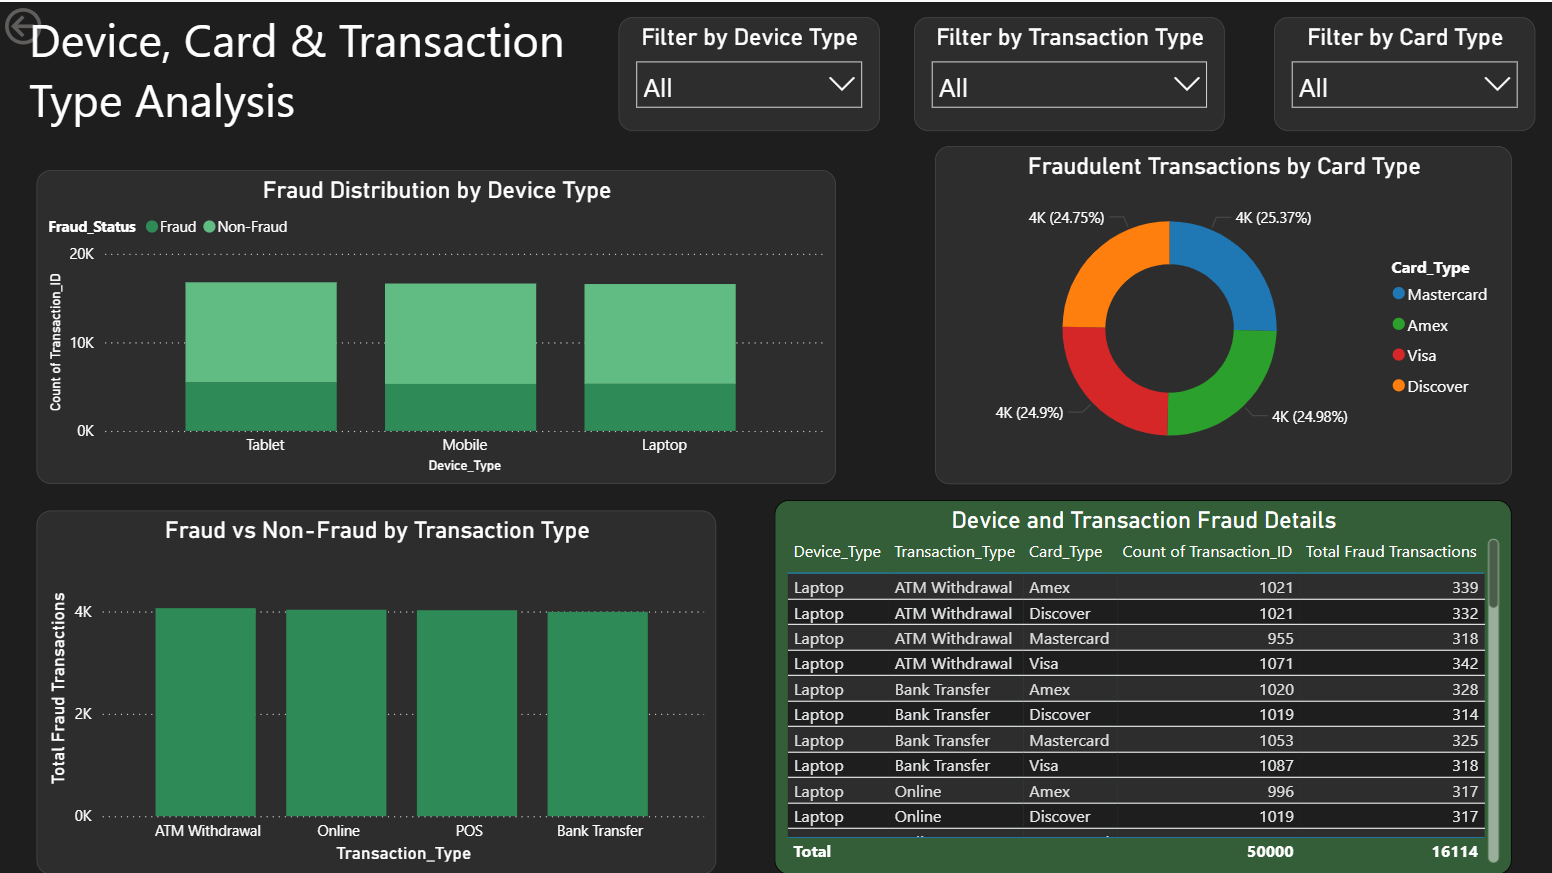

This screenshot's page, from the dashboard's own definition file:
{"tool":"powerbi","page":{"name":"Device & Transaction","canvas":[1280,720],"ordinal":2},"visuals":[{"type":"columnChart","title":"Fraud Distribution by Device Type","fields":{"Category":["fraud_dashboard_dataset.Device_Type"],"Y":["CountNonNull(fraud_dashboard_dataset.Transaction_ID)"],"Series":["fraud_dashboard_dataset.Fraud_Status"]},"box":[30.3,137.8,658.7,258.9],"z":0},{"type":"clusteredColumnChart","title":"Fraud vs Non-Fraud by Transaction Type","fields":{"Category":["fraud_dashboard_dataset.Transaction_Type"],"Y":["fraud_dashboard_dataset.Total Fraud Transactions"]},"box":[30.3,419.4,560.3,299.8],"z":1000},{"type":"donutChart","title":"Fraudulent Transactions by Card Type","fields":{"Category":["fraud_dashboard_dataset.Card_Type"],"Y":["fraud_dashboard_dataset.Total Fraud Transactions"]},"box":[770.7,118.1,475.5,278.6],"z":2000},{"type":"tableEx","title":"Device and Transaction Fraud Details","fields":{"Values":["fraud_dashboard_dataset.Device_Type","fraud_dashboard_dataset.Transaction_Type","fraud_dashboard_dataset.Card_Type","fraud_dashboard_dataset.Transaction_ID","fraud_dashboard_dataset.Total Fraud Transactions"]},"box":[639,410.3,607.2,308.9],"z":3000},{"type":"actionButton","box":[0,0,100,40],"z":4000},{"type":"slicer","title":"Filter by Device Type","fields":{"Values":["fraud_dashboard_dataset.Device_Type"]},"box":[510.3,12.1,215,93.9],"z":5000},{"type":"slicer","title":"Filter by Transaction Type","fields":{"Values":["fraud_dashboard_dataset.Transaction_Type"]},"box":[754.1,12.1,255.9,93.9],"z":6000},{"type":"slicer","title":"Filter by Card Type","fields":{"Values":["fraud_dashboard_dataset.Card_Type"]},"box":[1050.9,12.1,215,93.9],"z":7000},{"type":"textbox","box":[19.7,0,490.6,118.1],"z":8000}]}

Visuals, with their boxes in screenshot pixels (x1, y1, x2, y2), scaled from the page's 1280x720 canvas onto the 1552x873 screenshot:
"Fraud Distribution by Device Type" columnChart: pyautogui.locateOnScreen(37, 167, 835, 481)
"Fraud vs Non-Fraud by Transaction Type" clusteredColumnChart: pyautogui.locateOnScreen(37, 509, 716, 872)
"Fraudulent Transactions by Card Type" donutChart: pyautogui.locateOnScreen(934, 143, 1511, 481)
"Device and Transaction Fraud Details" tableEx: pyautogui.locateOnScreen(775, 497, 1511, 872)
actionButton: pyautogui.locateOnScreen(0, 0, 121, 48)
"Filter by Device Type" slicer: pyautogui.locateOnScreen(619, 15, 879, 129)
"Filter by Transaction Type" slicer: pyautogui.locateOnScreen(914, 15, 1225, 129)
"Filter by Card Type" slicer: pyautogui.locateOnScreen(1274, 15, 1535, 129)
textbox: pyautogui.locateOnScreen(24, 0, 619, 143)
